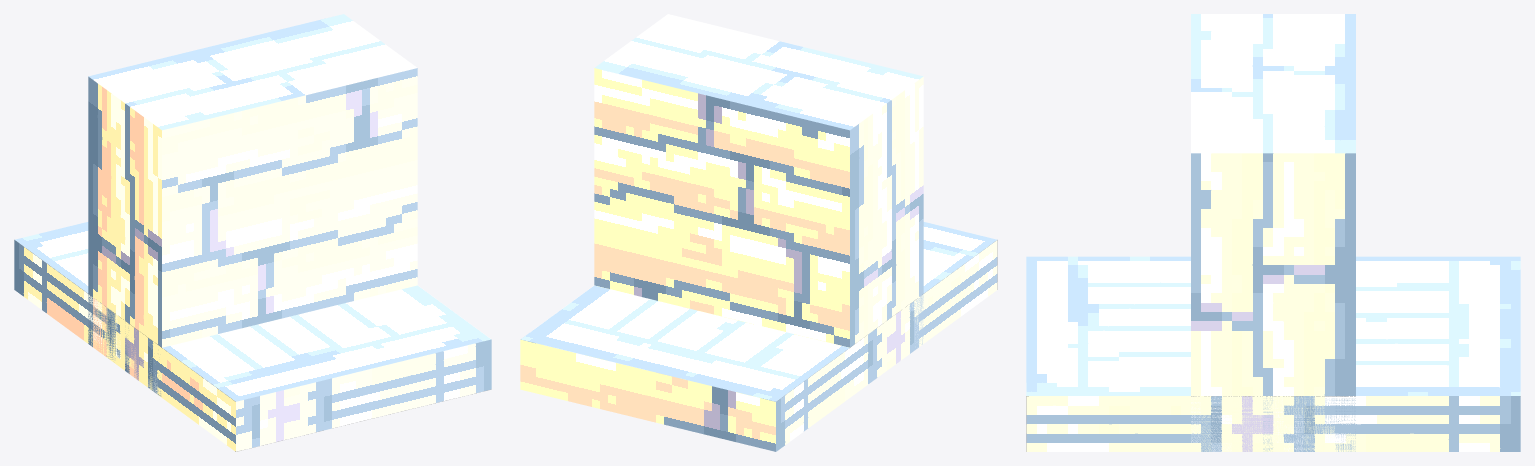
The model's file is wood-door.glb.
3 renders of one model, left to right at view 1: azimuth 30°, elevation 25°; view 2: azimuth 150°, elevation 25°; view 3: azimuth 270°, elevation 25°, orthographic. The views are drawn at different scales.
Visible parts, largest first — view 1: doorframe, door; view 2: doorframe, door; view 3: door, doorframe.
Boxes of the visible parts, x1=… form: doorframe: x1=88, y1=14, x2=417, y2=396; door: x1=14, y1=222, x2=491, y2=451; doorframe: x1=594, y1=14, x2=923, y2=347; door: x1=520, y1=222, x2=997, y2=451; door: x1=1026, y1=256, x2=1520, y2=451; doorframe: x1=1191, y1=14, x2=1355, y2=451.
Bounding box in the file's own units: 1 × 1 × 1.5.
